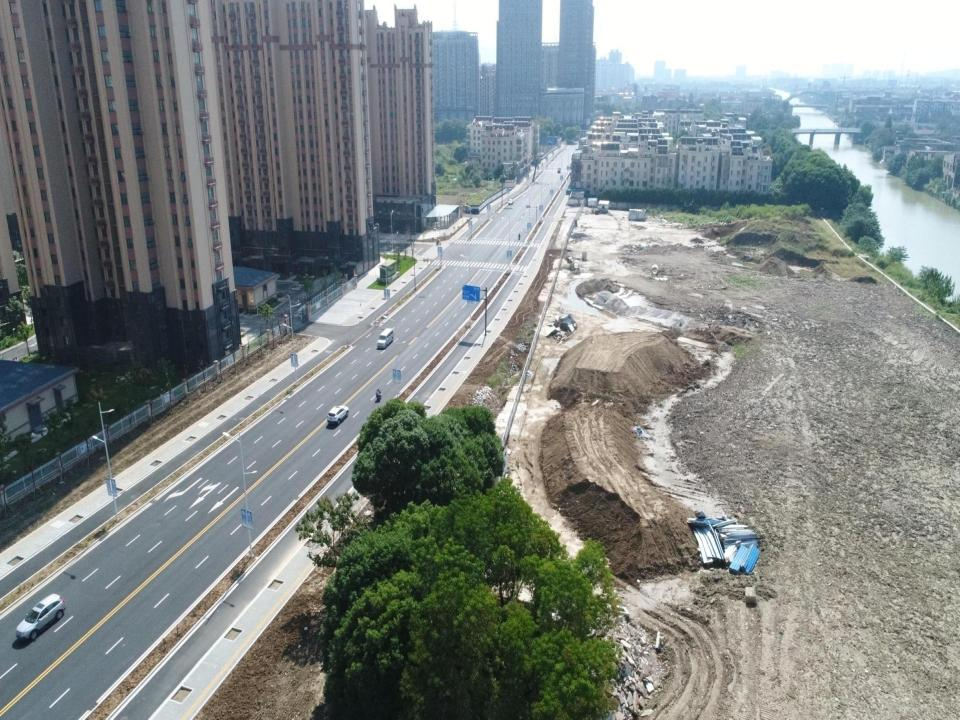car: (328, 405, 351, 423), (508, 198, 514, 204)
van: (15, 591, 65, 641), (376, 327, 393, 352)
